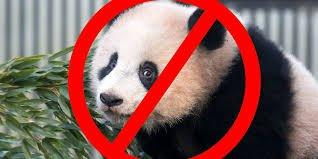bear: (90, 0, 318, 159)
